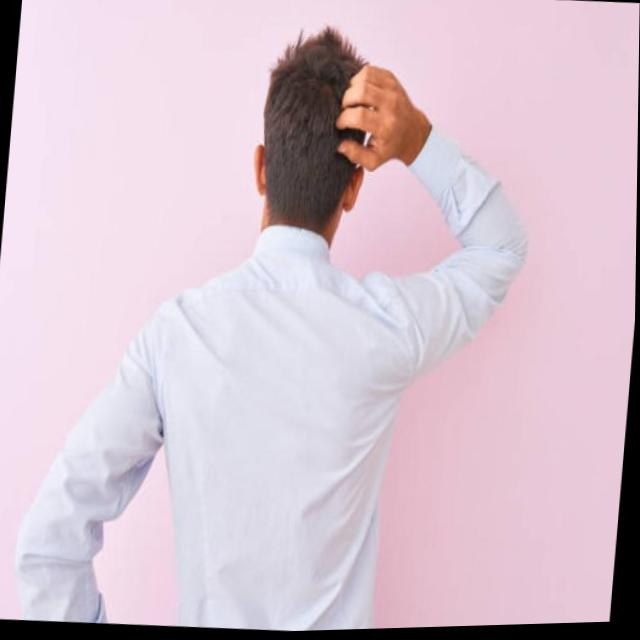no helmet: (231, 37, 389, 273)
